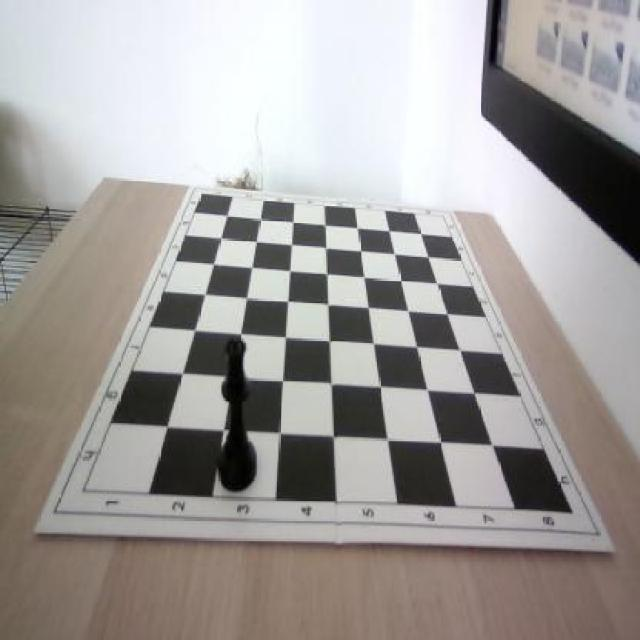black-pawn: (216, 332, 258, 498)
